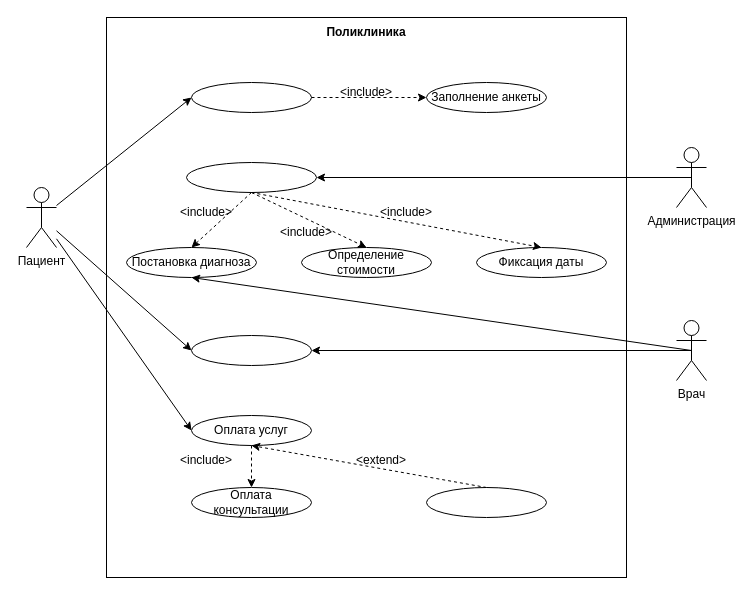
The diagram is 752 pixels wide and 595 high, and some of its shapes have lost their labels. Each missing label, with the centre of its shape:
"Обращение" belongs at point 251,97.
"Оплата процедур" belongs at point 486,502.
"Получение лечения" belongs at point 251,350.
"Фиксация обращения" belongs at point 251,177.
